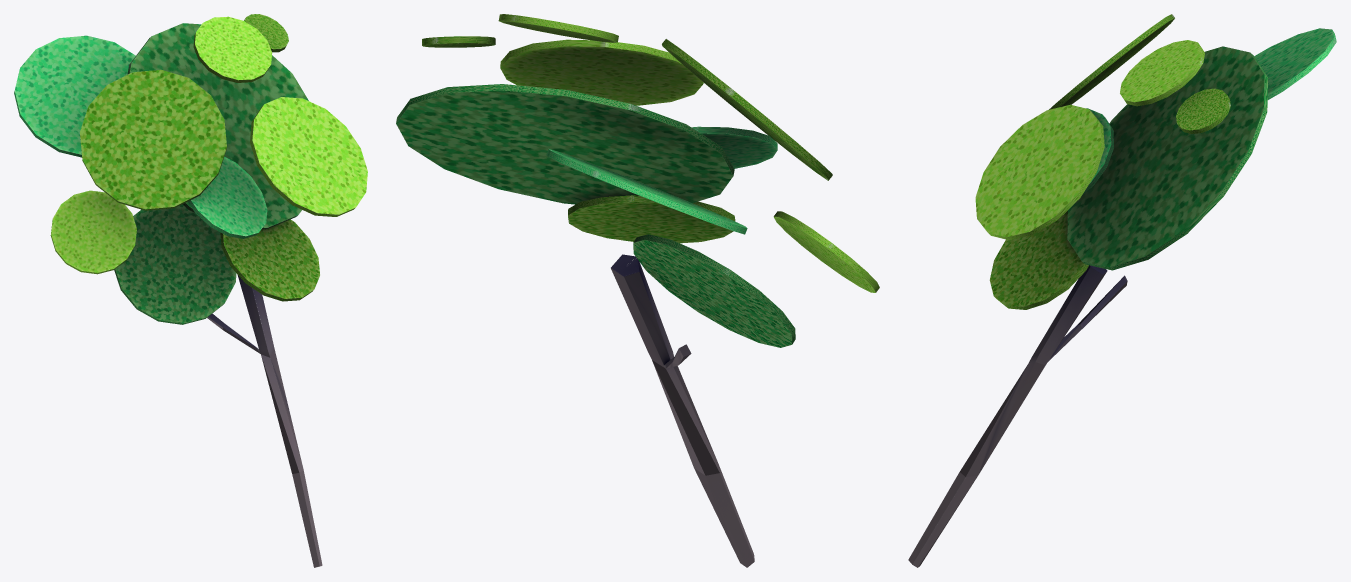
Rendered from tree2.fbx.
3 renders of one model, left to right at view 1: azimuth 30°, elevation 25°; view 2: azimuth 150°, elevation 25°; view 3: azimuth 270°, elevation 25°, orthographic. The views are drawn at different scales.
Visible parts, largest first — view 1: crown2, stem2; view 2: crown2, stem2; view 3: crown2, stem2.
Part boxes in pixels (x1,y1,x2,y2): crown2: (14, 14, 367, 324); stem2: (207, 274, 322, 567); crown2: (396, 14, 879, 347); stem2: (611, 254, 754, 567); crown2: (975, 14, 1336, 309); stem2: (908, 265, 1127, 567).
Size of the model in its own units: 25.49 by 38.55 by 28.29.
